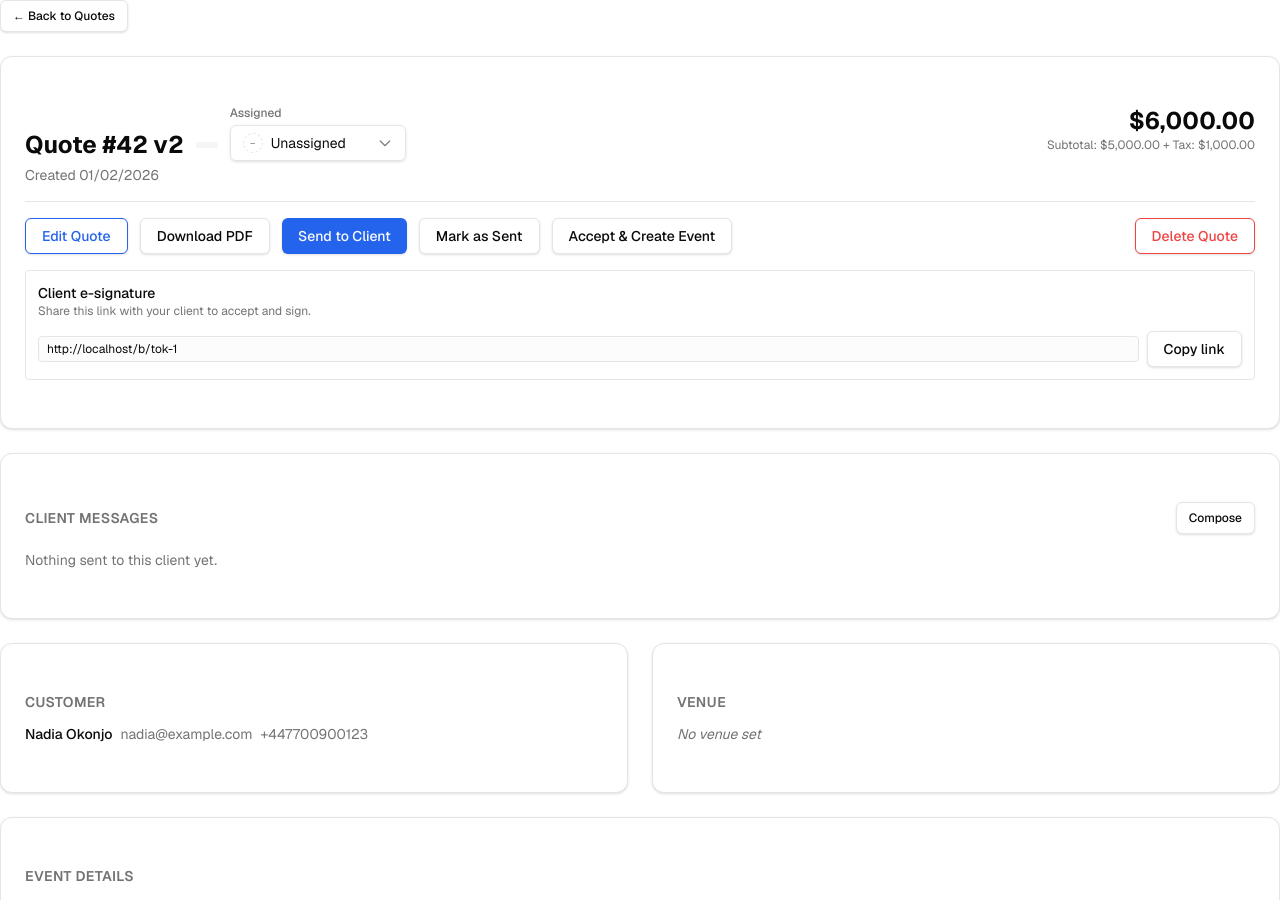
Test: Quote page — Send to Client › shows the attachment only for an emailed booking document
Click the button "Send to Client": {"x": 344, "y": 236} [282,218,407,254]
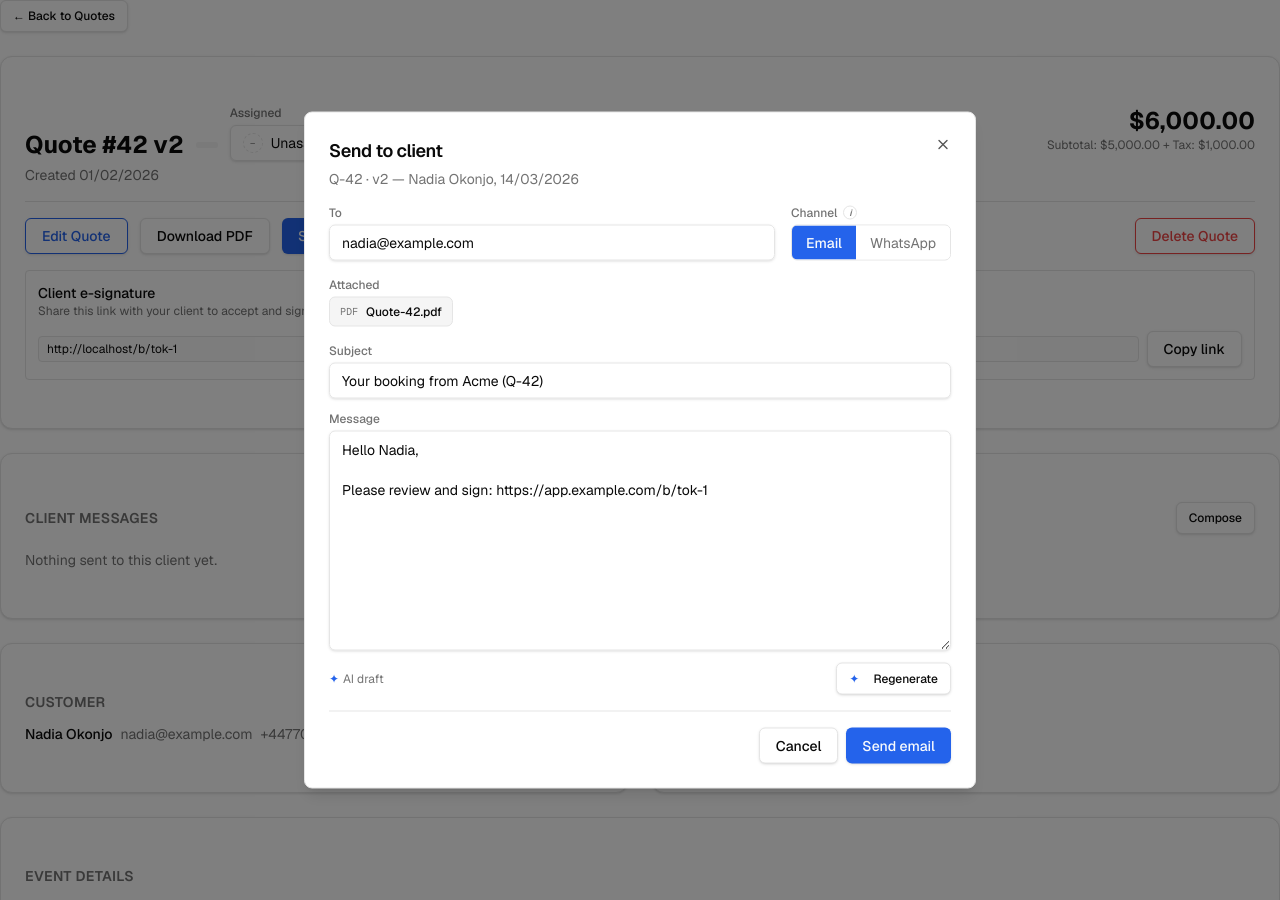
Now the text "Quote-42.pdf" is shown, box [366,304,442,320]
Click the button "WhatsApp": {"x": 903, "y": 242} [856,226,950,260]
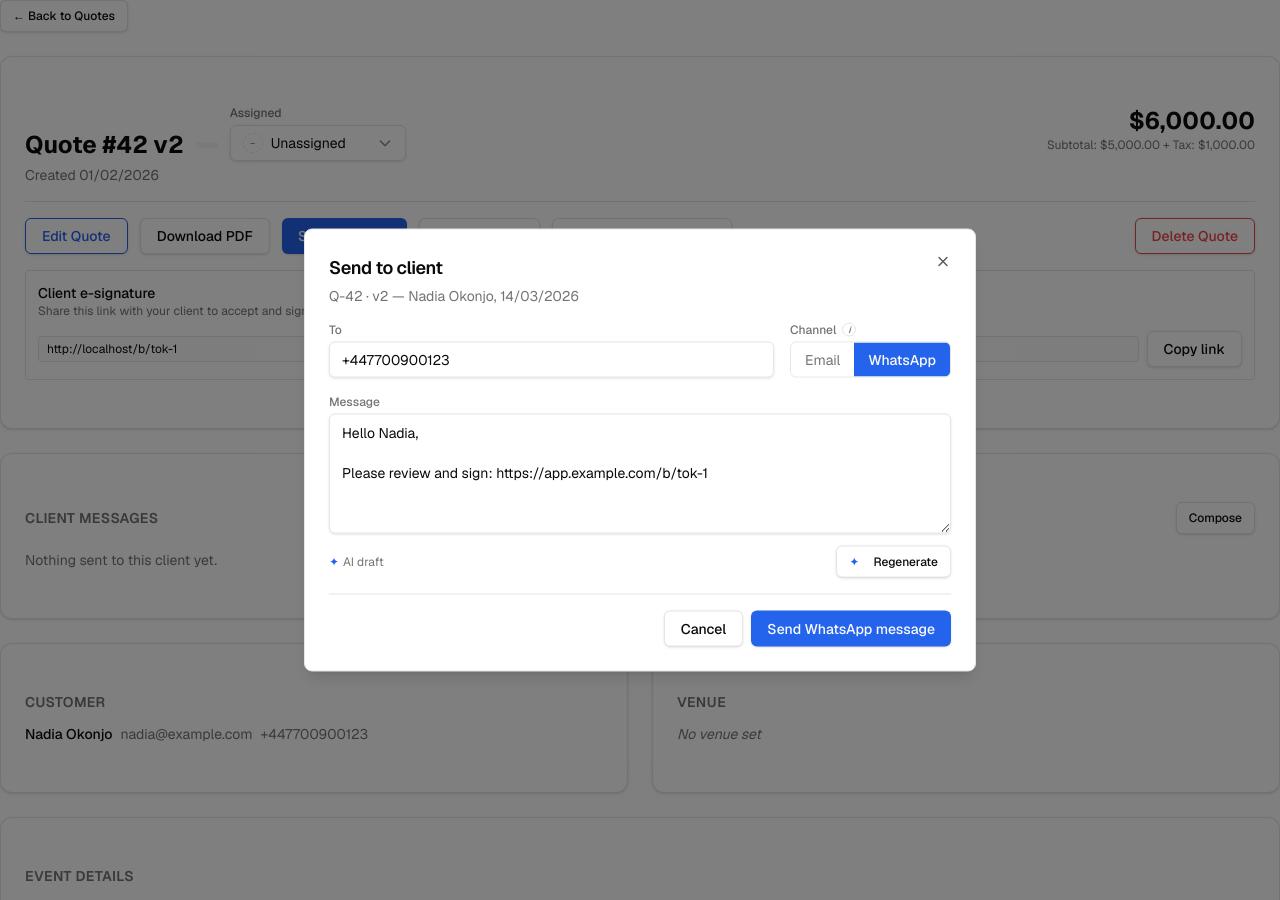
Now the text "Quote-42.pdf" is gone
